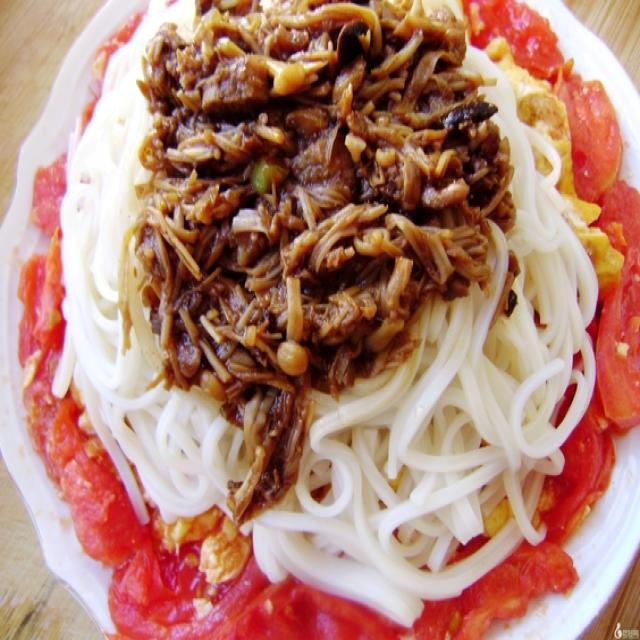面条主食: (27, 8, 625, 632)
